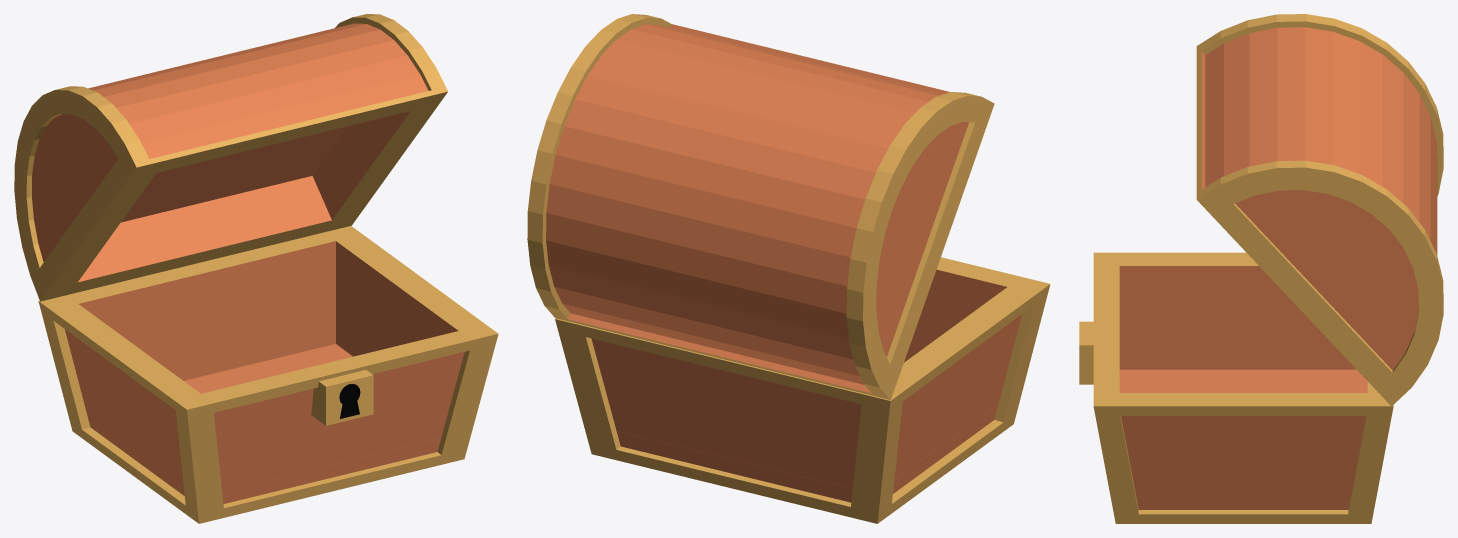
Rendered from BoxOpen3.fbx.
3 views of the same model, side by side, from view 1: azimuth 30°, elevation 25°; view 2: azimuth 150°, elevation 25°; view 3: azimuth 270°, elevation 25° (orthographic). The views are drawn at different scales.
Visible parts, largest first — view 1: Cube, Cylinder, 円.002, 立方体; view 2: Cylinder, Cube, 円.002; view 3: Cube, Cylinder, 円.001, 立方体.
Boxes of the visible parts, box(x1,y1,x2,y2) form: Cube: box(38, 226, 498, 523); Cylinder: box(14, 14, 447, 301); 円.002: box(32, 114, 118, 261); 立方体: box(311, 370, 373, 425); Cylinder: box(527, 14, 994, 399); Cube: box(555, 257, 1050, 523); 円.002: box(876, 121, 968, 356); Cube: box(1093, 252, 1393, 523); Cylinder: box(1196, 14, 1443, 406); 円.001: box(1235, 190, 1418, 370); 立方体: box(1079, 321, 1093, 384).
Size of the model in its own units: 243 by 271 by 243.
